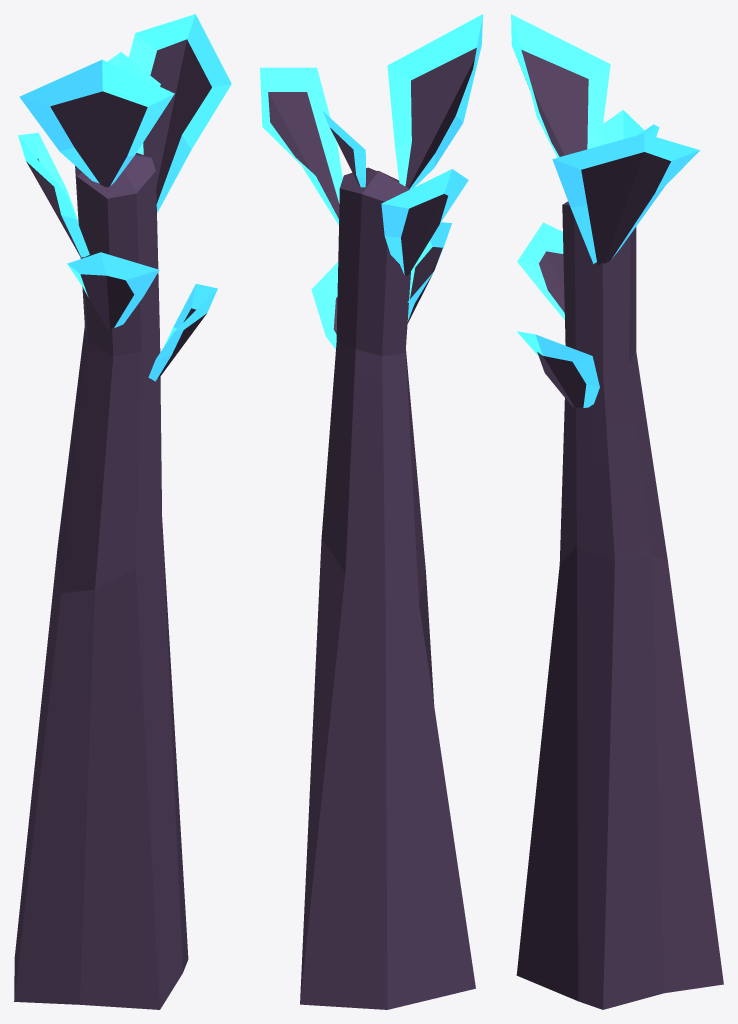
The model's file is scifi_scifi-tree-crown-small.fbx.
3 renders of one model, left to right at view 1: azimuth 30°, elevation 25°; view 2: azimuth 150°, elevation 25°; view 3: azimuth 270°, elevation 25°, orthographic. The views are drawn at different scales.
Visible parts, largest first — view 1: scifi_scifi_tree_crown_small; view 2: scifi_scifi_tree_crown_small; view 3: scifi_scifi_tree_crown_small.
Part boxes in pixels (box(x1,y1,x2,y2)): scifi_scifi_tree_crown_small: box(14, 14, 231, 1009); scifi_scifi_tree_crown_small: box(260, 14, 482, 1009); scifi_scifi_tree_crown_small: box(511, 14, 723, 1009).
Size of the model in its own units: 43.91 by 200 by 41.36.
